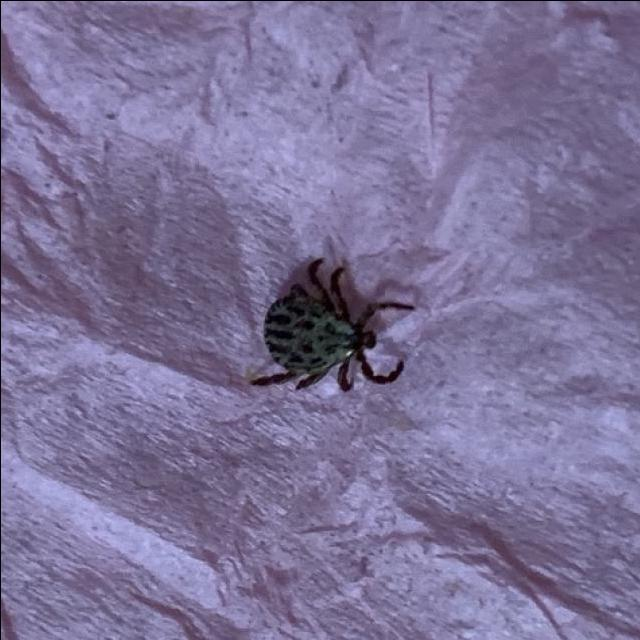Dermacentor Reticulatus-M: (249, 256, 414, 390)
